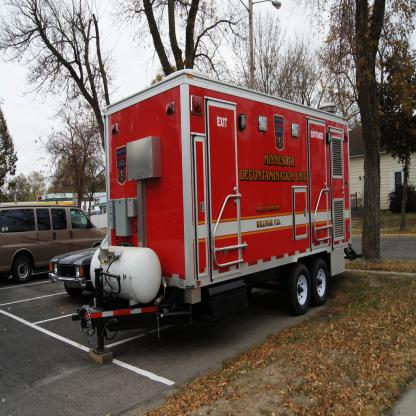Truck: (103, 64, 354, 356)
